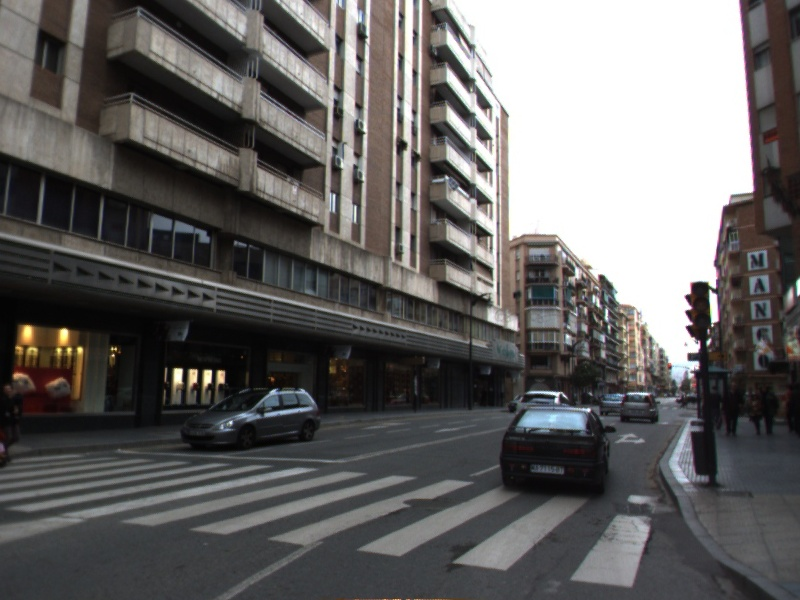STRAIGHT_RIGHT: (612, 431, 648, 446)
